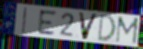2: (59, 12, 76, 38)
D: (97, 13, 117, 42)
E: (37, 9, 57, 36)
I: (21, 6, 28, 35)
M: (115, 15, 140, 45)
V: (77, 11, 100, 41)
